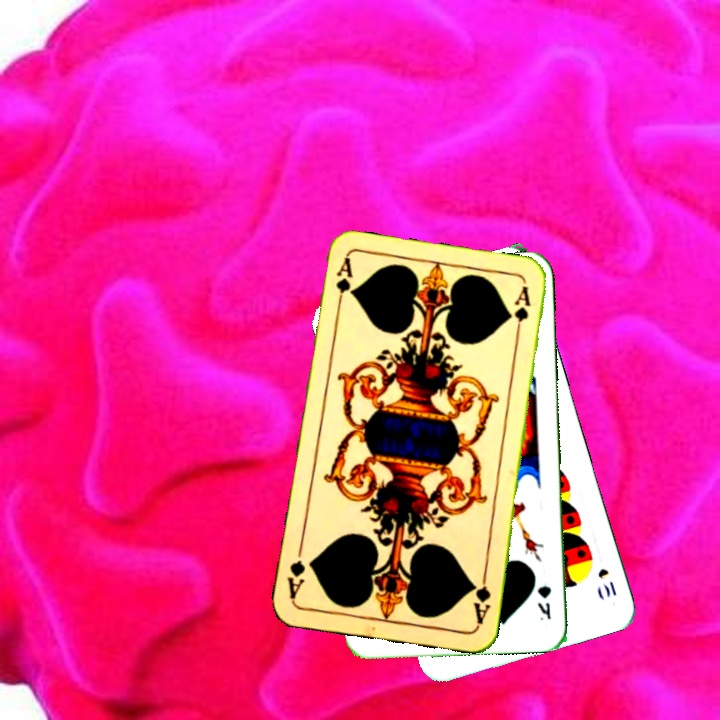GA: (468, 568, 493, 627), (331, 254, 355, 313)
GK: (533, 581, 554, 623)
S10: (594, 564, 619, 600)
